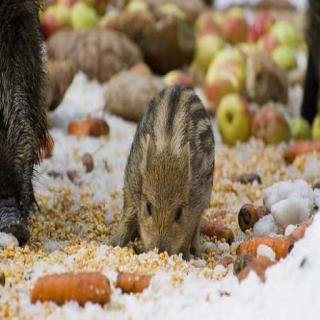Pig: (100, 89, 246, 254)
